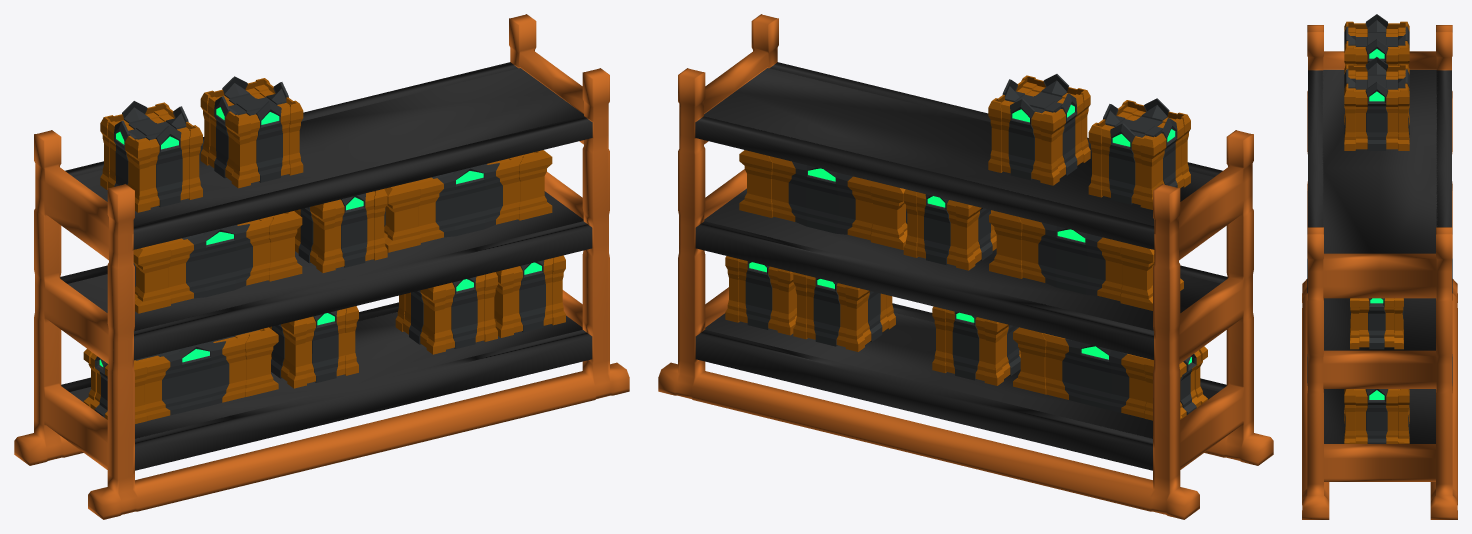
Rendered from Filled Shelf 3.fbx.
The picture shows the model from 3 angles, left to right: view 1: azimuth 30°, elevation 25°; view 2: azimuth 150°, elevation 25°; view 3: azimuth 270°, elevation 25°; orthographic projection. The views are drawn at different scales.
Visible parts, largest first — view 1: Cube.005, Cube.012, Cube.007, Cube.006, Cube.014, Cube.013, Cube.008, Cube.010, Cube.009, Cube.011; view 2: Cube.005, Cube.007, Cube.012, Cube.006, Cube.014, Cube.013, Cube.008, Cube.010, Cube.009, Cube.011; view 3: Cube.005, Cube.014, Cube.011, Cube.013, Cube.007.
Boxes of the visible parts, bbox=[...] form: Cube.005: bbox=[14, 14, 629, 519]; Cube.012: bbox=[133, 211, 302, 313]; Cube.007: bbox=[384, 150, 552, 252]; Cube.006: bbox=[83, 327, 278, 423]; Cube.014: bbox=[200, 76, 303, 188]; Cube.013: bbox=[100, 101, 202, 212]; Cube.008: bbox=[395, 272, 497, 354]; Cube.010: bbox=[294, 189, 387, 272]; Cube.009: bbox=[269, 306, 358, 388]; Cube.011: bbox=[494, 255, 565, 337]; Cube.005: bbox=[658, 14, 1273, 519]; Cube.007: bbox=[739, 150, 907, 249]; Cube.012: bbox=[989, 211, 1183, 310]; Cube.006: bbox=[1013, 327, 1207, 420]; Cube.014: bbox=[988, 74, 1090, 185]; Cube.013: bbox=[1088, 98, 1190, 209]; Cube.008: bbox=[793, 272, 895, 351]; Cube.010: bbox=[903, 189, 996, 270]; Cube.009: bbox=[932, 306, 1020, 385]; Cube.011: bbox=[725, 256, 796, 335]; Cube.005: bbox=[1302, 25, 1457, 519]; Cube.014: bbox=[1344, 57, 1409, 150]; Cube.011: bbox=[1344, 389, 1409, 443]; Cube.013: bbox=[1344, 14, 1409, 108]; Cube.007: bbox=[1350, 298, 1403, 349].
Size of the model in its own units: 1038 by 665 by 305.
